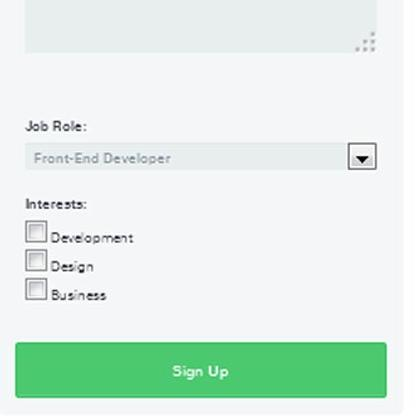button: (13, 340, 387, 400)
checkbox: (22, 217, 51, 247), (22, 275, 52, 304), (24, 245, 51, 274)
checkbox_with_label: (19, 216, 135, 248), (19, 274, 106, 306), (21, 243, 97, 277)
field: (23, 139, 380, 172)
field_with_label: (20, 118, 384, 176)
